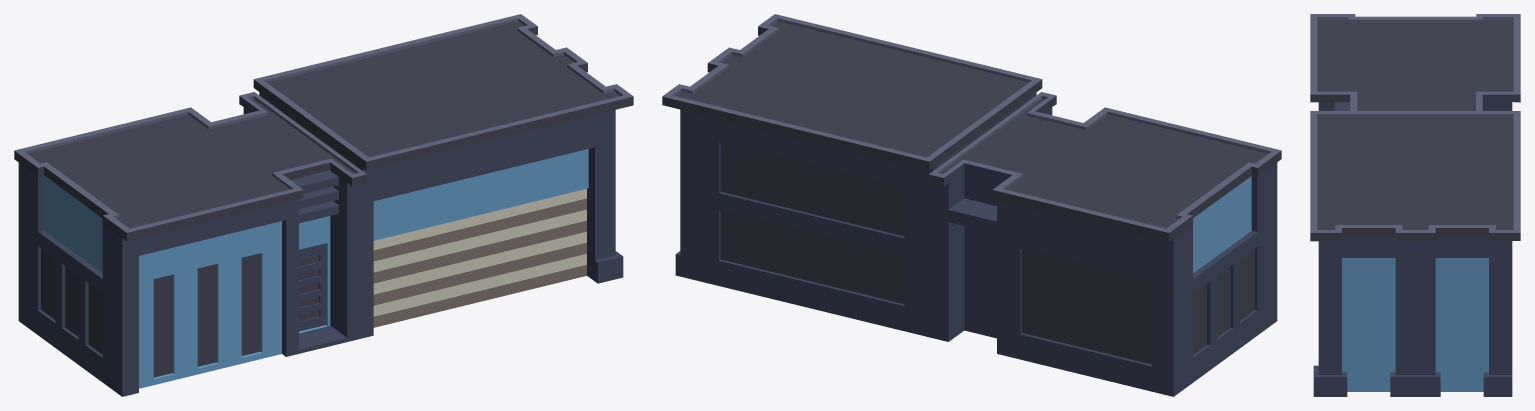
The model's file is building01_color03.fbx.
3 views of the same model, side by side, from view 1: azimuth 30°, elevation 25°; view 2: azimuth 150°, elevation 25°; view 3: azimuth 270°, elevation 25° (orthographic). The views are drawn at different scales.
Parts seen in each view (by area): view 1: building01_color03; view 2: building01_color03; view 3: building01_color03.
Part boxes in pixels (x1,y1,x2,y2): building01_color03: [14, 14, 633, 396]; building01_color03: [662, 14, 1281, 396]; building01_color03: [1310, 14, 1520, 396].
Bounding box in the file's own units: 2117 × 719 × 815.
